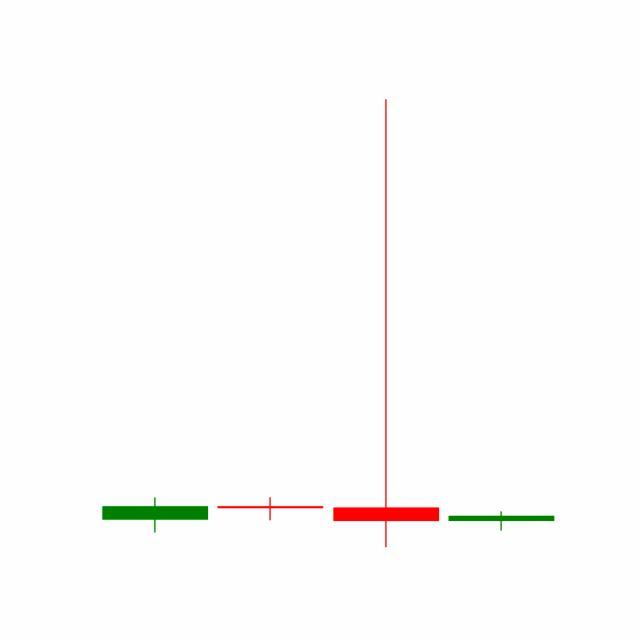Dragonfly Doji: (444, 511, 560, 532)
